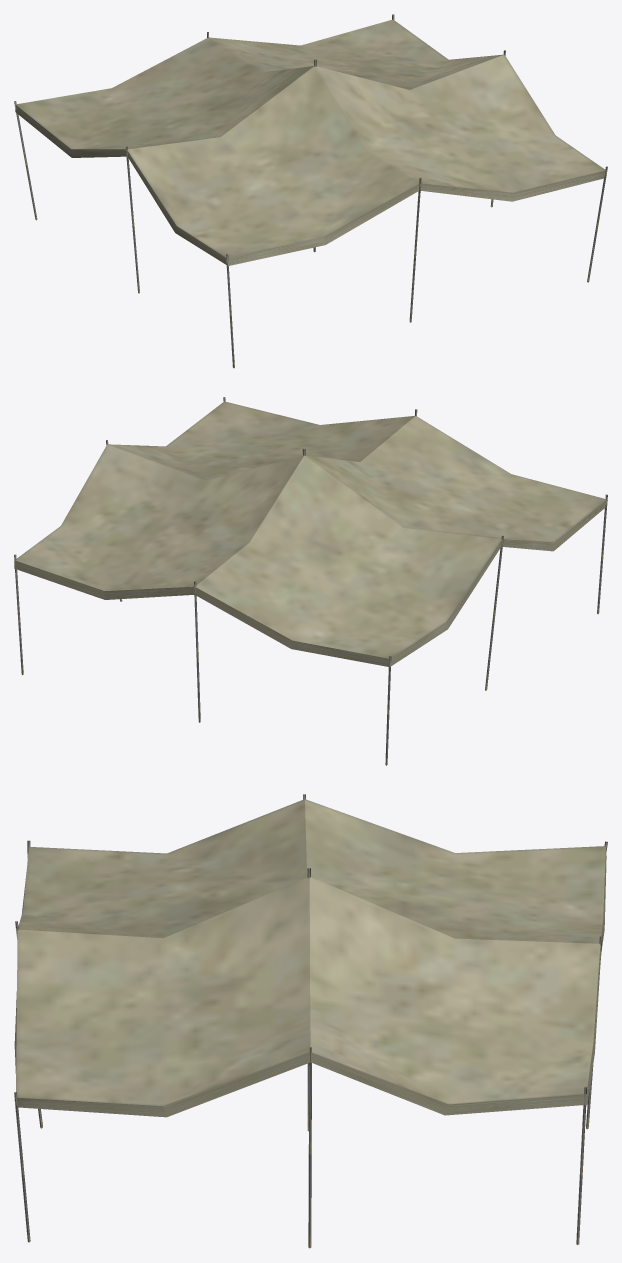
Rendered from poi_corl_tent_large_l2.fbx.
The picture shows the model from 3 angles, top to bottom: view 1: azimuth 30°, elevation 25°; view 2: azimuth 150°, elevation 25°; view 3: azimuth 270°, elevation 25°; orthographic projection. The views are drawn at different scales.
Parts seen in each view (by area): view 1: mesh_node; view 2: mesh_node; view 3: mesh_node.
Boxes of the visible parts, box(x1,y1,x2,y2) form: mesh_node: box(14, 14, 607, 368); mesh_node: box(14, 397, 607, 765); mesh_node: box(14, 794, 607, 1248).
Bounding box in the file's own units: 10.88 × 5.21 × 10.65.
